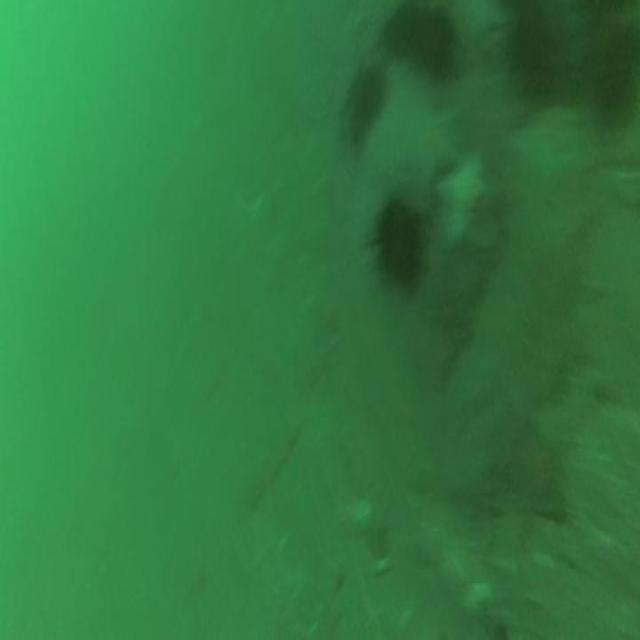echinus: (362, 183, 436, 302), (504, 2, 574, 112), (391, 0, 464, 90), (591, 16, 640, 133), (339, 59, 391, 150)
starfish: (502, 411, 572, 526)
